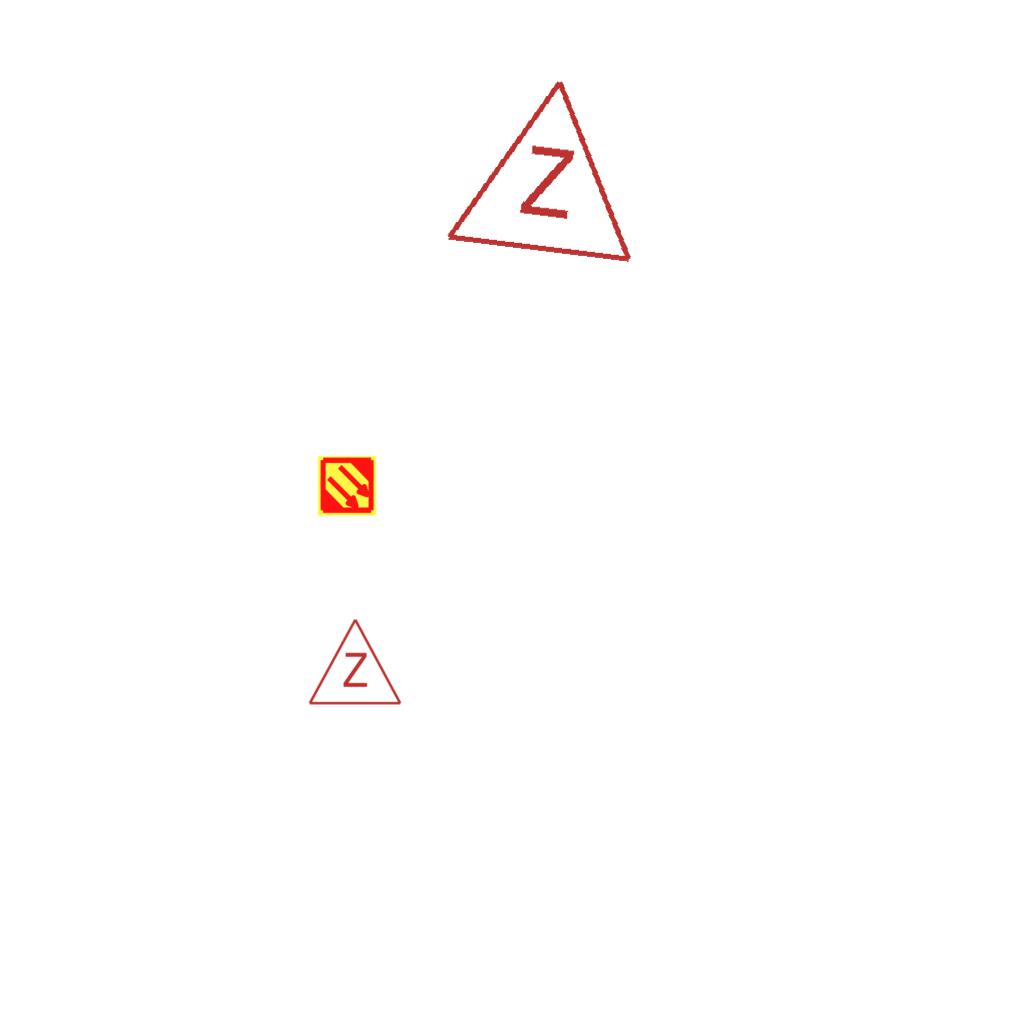ASR_Ansaugrauchmelder: (316, 455, 378, 517)
Zimmersignalleuchte: (437, 54, 657, 278), (305, 612, 403, 712)
